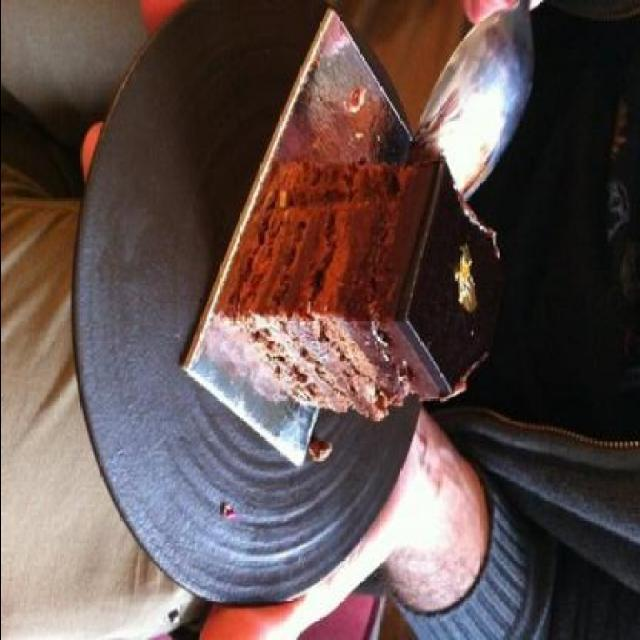Macaron: (196, 131, 514, 434)
